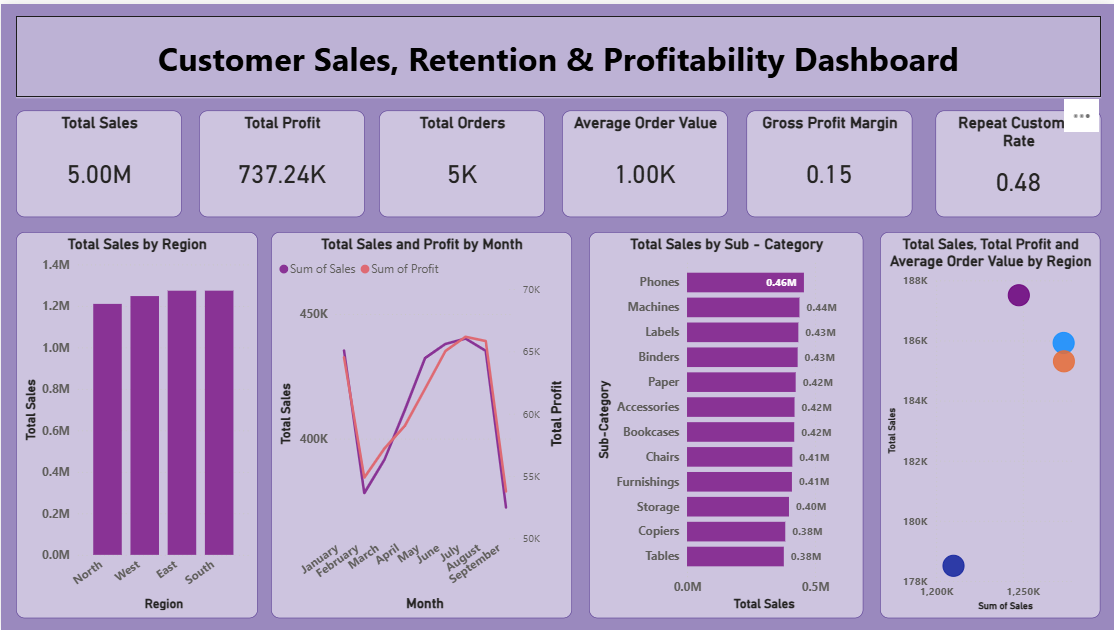

Layout of this report page (visuals, bound fields, positions):
{"tool":"powerbi","page":{"name":"Page 1","canvas":[1280,720],"ordinal":0},"visuals":[{"type":"clusteredColumnChart","title":"Total Sales by Region","fields":{"Category":["customer_sales_retention_profit.Region"],"Y":["Sum(customer_sales_retention_profit.Sales)"]},"box":[17,262.7,277.8,444.1],"z":0},{"type":"lineChart","title":"Total Sales and Profit by Month","fields":{"Y":["Sum(customer_sales_retention_profit.Sales)"],"Category":["customer_sales_retention_profit.Order Date.Variation.Date Hierarchy.Month"],"Y2":["Sum(customer_sales_retention_profit.Profit)"]},"box":[309.9,262.7,345.8,444.1],"z":1000},{"type":"clusteredBarChart","title":"Total Sales by Sub - Category","fields":{"Category":["customer_sales_retention_profit.Sub-Category"],"Y":["Sum(customer_sales_retention_profit.Sales)"]},"box":[676.5,262.7,315.6,444.1],"z":2000},{"type":"scatterChart","title":"Total Sales, Total Profit and Average Order Value by Region","fields":{"X":["Sum(customer_sales_retention_profit.Sales)"],"Y":["Sum(customer_sales_retention_profit.Profit)"],"Category":["customer_sales_retention_profit.Region"]},"box":[1011,262.7,253.2,444.1],"z":3000},{"type":"card","title":"Total Sales ","fields":{"Values":["Sum(customer_sales_retention_profit.Sales)"]},"box":[17,122.8,190.9,122.8],"z":4000},{"type":"card","title":"Total Profit","fields":{"Values":["Sum(customer_sales_retention_profit.Profit)"]},"box":[226.8,122.8,190.9,122.8],"z":5000},{"type":"card","title":"Total Orders","fields":{"Values":["Count(customer_sales_retention_profit.Order ID)"]},"box":[434.6,122.8,190.9,122.8],"z":6000},{"type":"card","title":"Average Order Value","fields":{"Values":["customer_sales_retention_profit.Average Order Value"]},"box":[644.4,122.8,190.9,122.8],"z":7000},{"type":"card","title":"Gross Profit Margin","fields":{"Values":["customer_sales_retention_profit.Gross Profit Margin"]},"box":[856.1,122.8,190.9,122.8],"z":8000},{"type":"card","title":"Repeat Customer Rate","fields":{"Values":["customer_sales_retention_profit.repeat cx rate"]},"box":[1073.4,122.8,190.9,122.8],"z":9000},{"type":"textbox","box":[17,13.2,1247.3,94.5],"z":9001}]}

Visuals, with their boxes in screenshot pixels (x1, y1, x2, y2), scaled from the page's 1280x720 canvas onto the 1114x630 screenshot:
"Total Sales by Region" clusteredColumnChart: pyautogui.locateOnScreen(15, 230, 257, 618)
"Total Sales and Profit by Month" lineChart: pyautogui.locateOnScreen(270, 230, 571, 618)
"Total Sales by Sub - Category" clusteredBarChart: pyautogui.locateOnScreen(589, 230, 863, 618)
"Total Sales, Total Profit and Average Order Value by Region" scatterChart: pyautogui.locateOnScreen(880, 230, 1100, 618)
"Total Sales " card: pyautogui.locateOnScreen(15, 107, 181, 215)
"Total Profit" card: pyautogui.locateOnScreen(197, 107, 364, 215)
"Total Orders" card: pyautogui.locateOnScreen(378, 107, 544, 215)
"Average Order Value" card: pyautogui.locateOnScreen(561, 107, 727, 215)
"Gross Profit Margin" card: pyautogui.locateOnScreen(745, 107, 911, 215)
"Repeat Customer Rate" card: pyautogui.locateOnScreen(934, 107, 1100, 215)
textbox: pyautogui.locateOnScreen(15, 12, 1100, 94)
